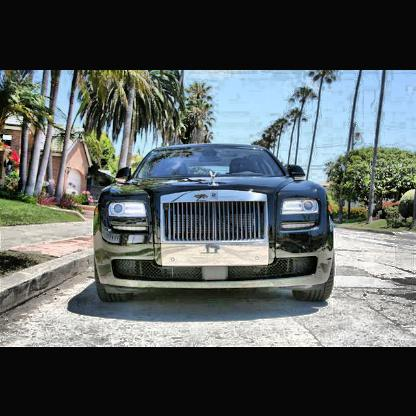Rolls-Royce Phantom Sedan 2012: (80, 141, 347, 317)
